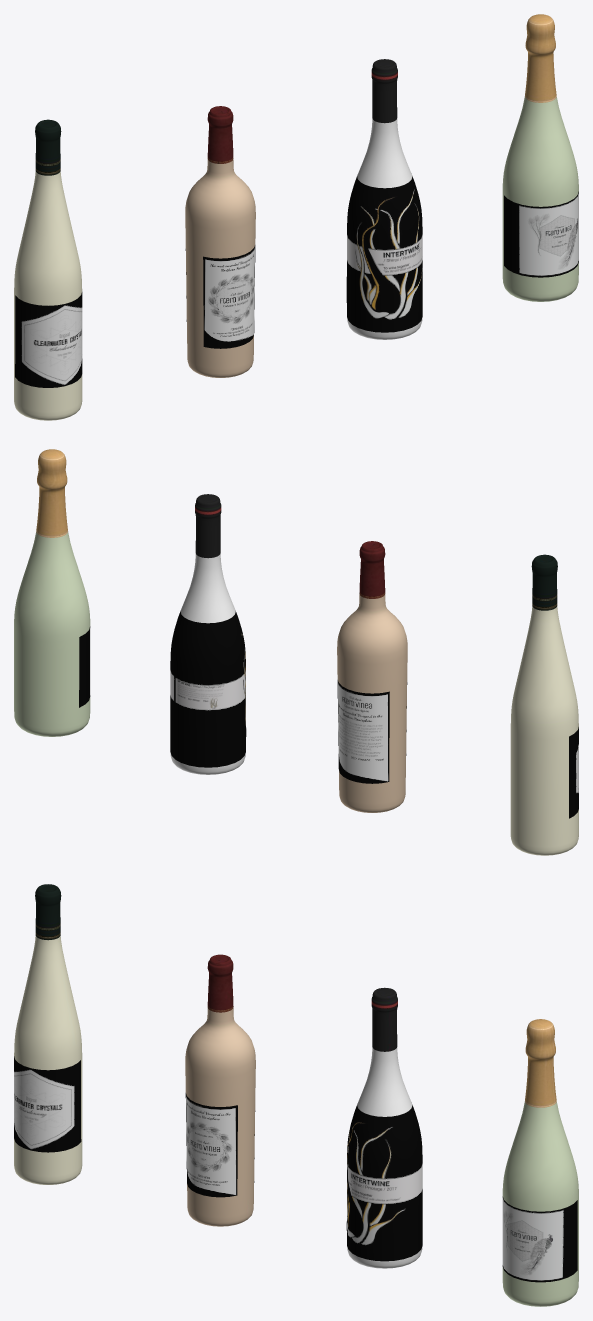
File: wine_bottles_01_1k.glb
3 renders of one model, top to bottom at view 1: azimuth 30°, elevation 25°; view 2: azimuth 150°, elevation 25°; view 3: azimuth 330°, elevation 25°, orthographic.
Visible parts, largest first — view 1: wine_bottles_01_champagne, wine_bottles_01_alsace, wine_bottles_01_burgundy, wine_bottles_01_bordeaux; view 2: wine_bottles_01_champagne, wine_bottles_01_alsace, wine_bottles_01_burgundy, wine_bottles_01_bordeaux; view 3: wine_bottles_01_champagne, wine_bottles_01_alsace, wine_bottles_01_burgundy, wine_bottles_01_bordeaux.
Part boxes in pixels (x1,y1,x2,y2): wine_bottles_01_champagne: [502, 14, 578, 301]; wine_bottles_01_alsace: [14, 119, 82, 420]; wine_bottles_01_burgundy: [346, 59, 422, 339]; wine_bottles_01_bordeaux: [185, 106, 255, 377]; wine_bottles_01_champagne: [14, 449, 90, 736]; wine_bottles_01_alsace: [510, 554, 578, 855]; wine_bottles_01_burgundy: [170, 494, 246, 774]; wine_bottles_01_bordeaux: [337, 541, 407, 812]; wine_bottles_01_champagne: [502, 1019, 578, 1306]; wine_bottles_01_alsace: [14, 884, 82, 1184]; wine_bottles_01_burgundy: [346, 987, 422, 1268]; wine_bottles_01_bordeaux: [185, 954, 255, 1226].
Size of the model in its own units: 0.6763 by 0.3314 by 0.0806.
Materials: 9 (6 with a texture image).
